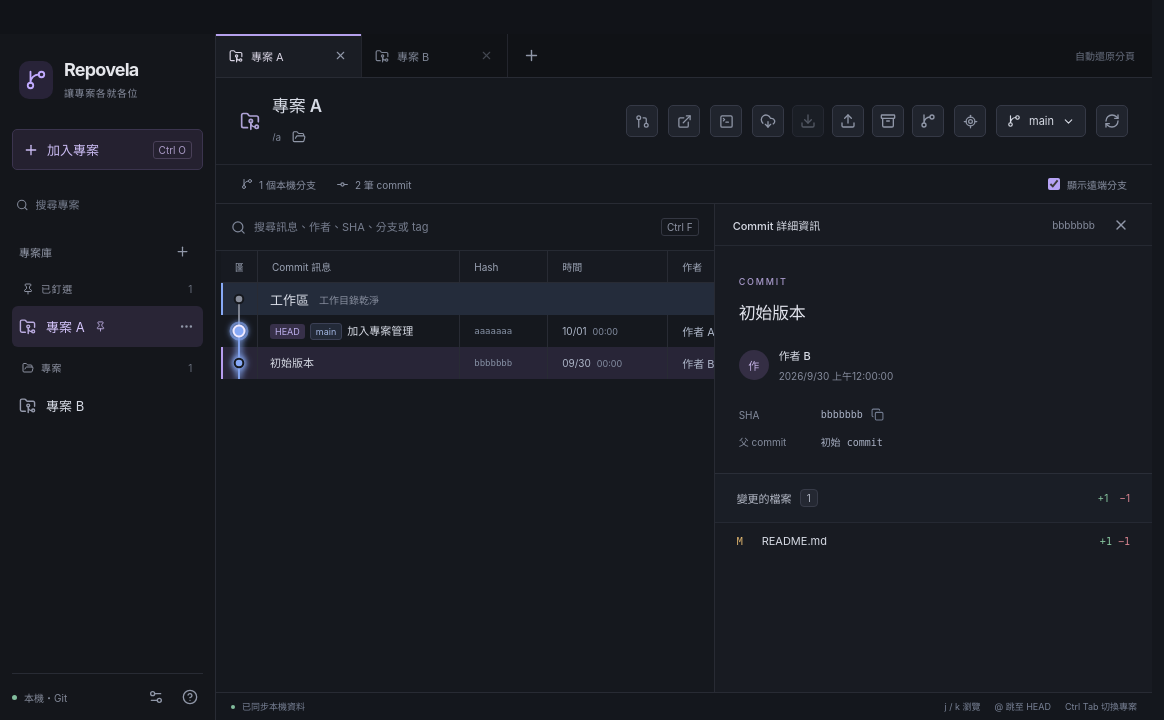
桌面分頁與瀏覽互動 › PR／MR 切換整頁、保留側邊欄，返回歷史與切換專案不混用
Expected: the heading "初始版本" is shown, x1=739 y1=303 x2=806 y2=323
Click the button named "瀏覽 PR／MR". click: (642, 121)
box: x1=626 y1=105 x2=658 y2=137
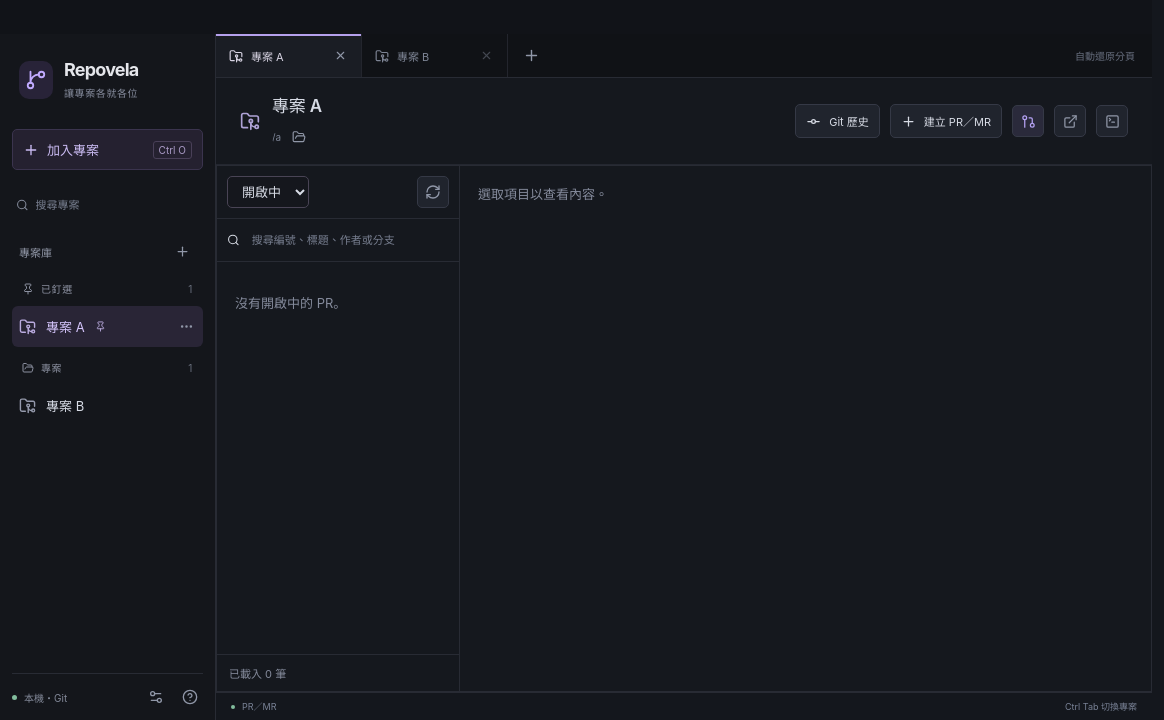
Expected: the button "專案 A" is shown, x1=12 y1=306 x2=173 y2=347
Now the element named "PR／MR" is shown, box x1=216 y1=165 x2=1152 y2=692
Now the button "建立 PR／MR" is enabled
Click the button "建立 PR／MR". click: (946, 121)
box: x1=890 y1=104 x2=1002 y2=138
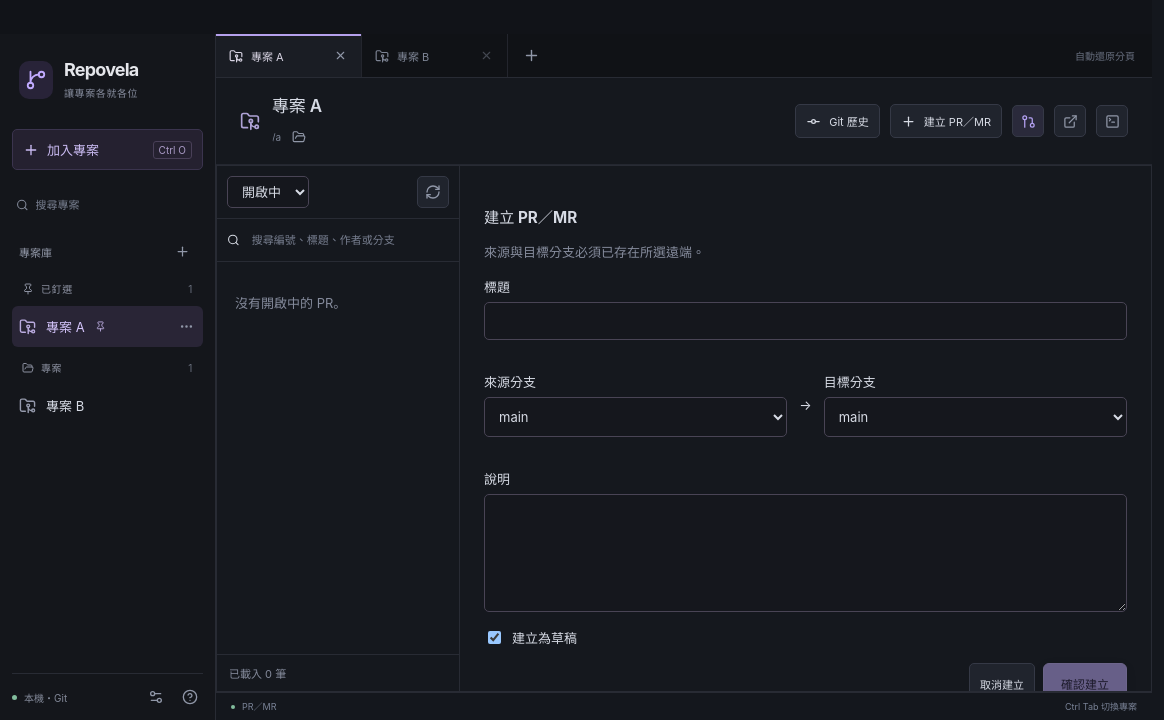
Type "專案 A 的建立草稿" into the field named "PR／MR 標題". click: (806, 321)
box: x1=484 y1=302 x2=1127 y2=340
Click the tab "專案 B". click: (418, 56)
box: x1=362 y1=34 x2=473 y2=77
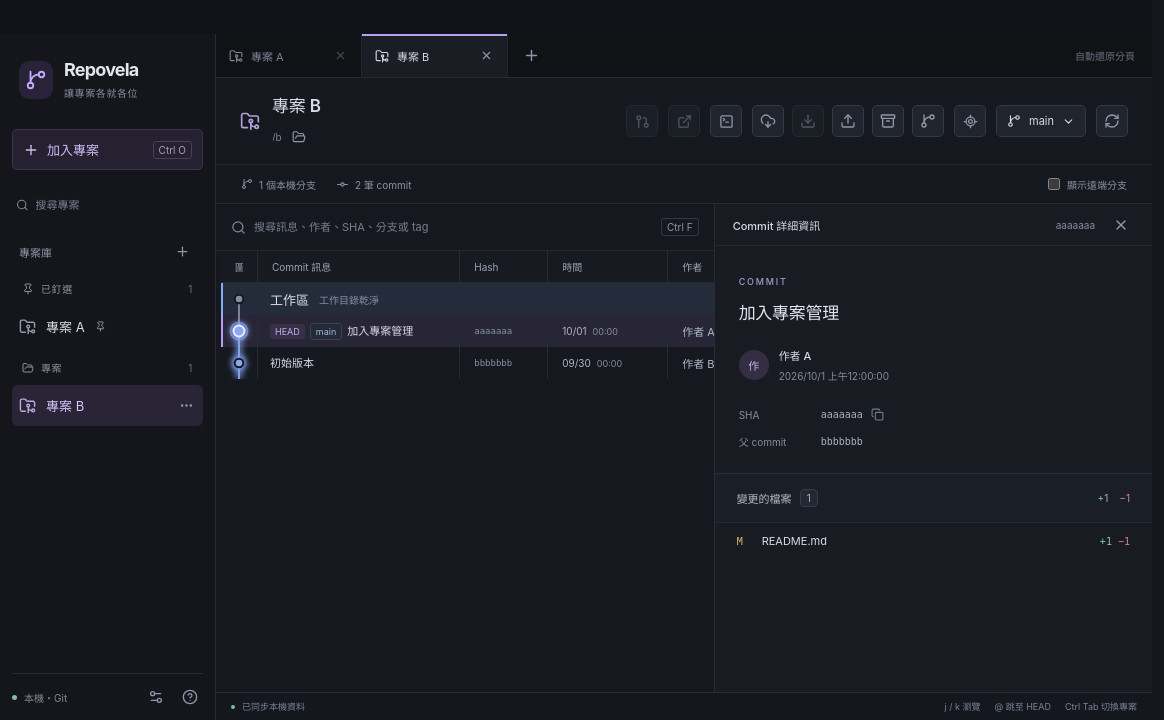
Now the button "建立 PR／MR" is gone
Click the tab "專案 A". click: (272, 56)
box: x1=216 y1=34 x2=327 y2=77
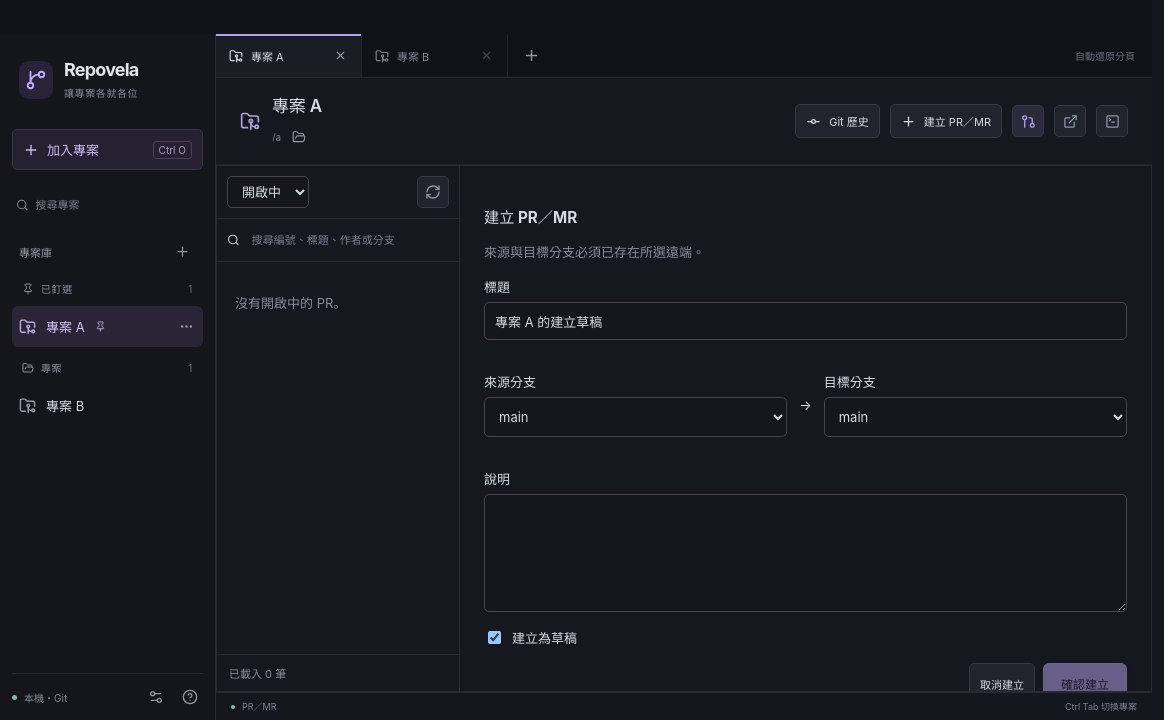
Click the button "Git 歷史". click: (838, 121)
box: x1=795 y1=104 x2=880 y2=138
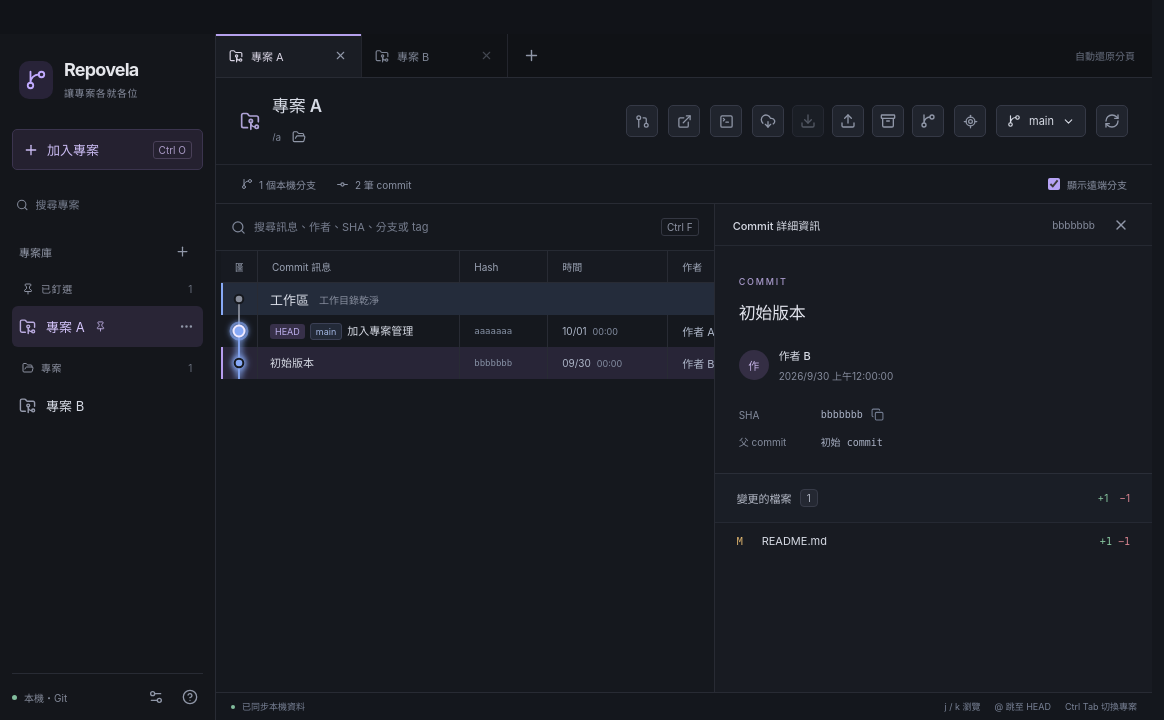
Click the tab "專案 B". click: (418, 56)
box: x1=362 y1=34 x2=473 y2=77
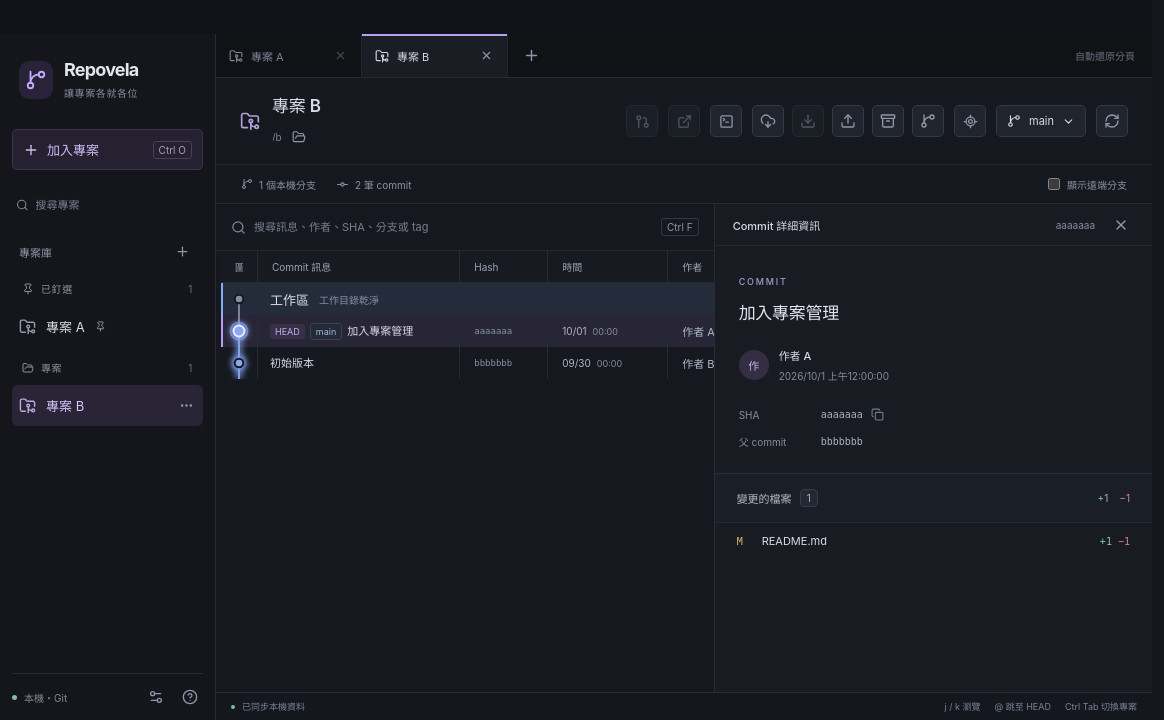
Now the heading "加入專案管理" is shown, box x1=739 y1=303 x2=839 y2=323
Now the button named "瀏覽 PR／MR" is disabled, box x1=626 y1=105 x2=658 y2=137
